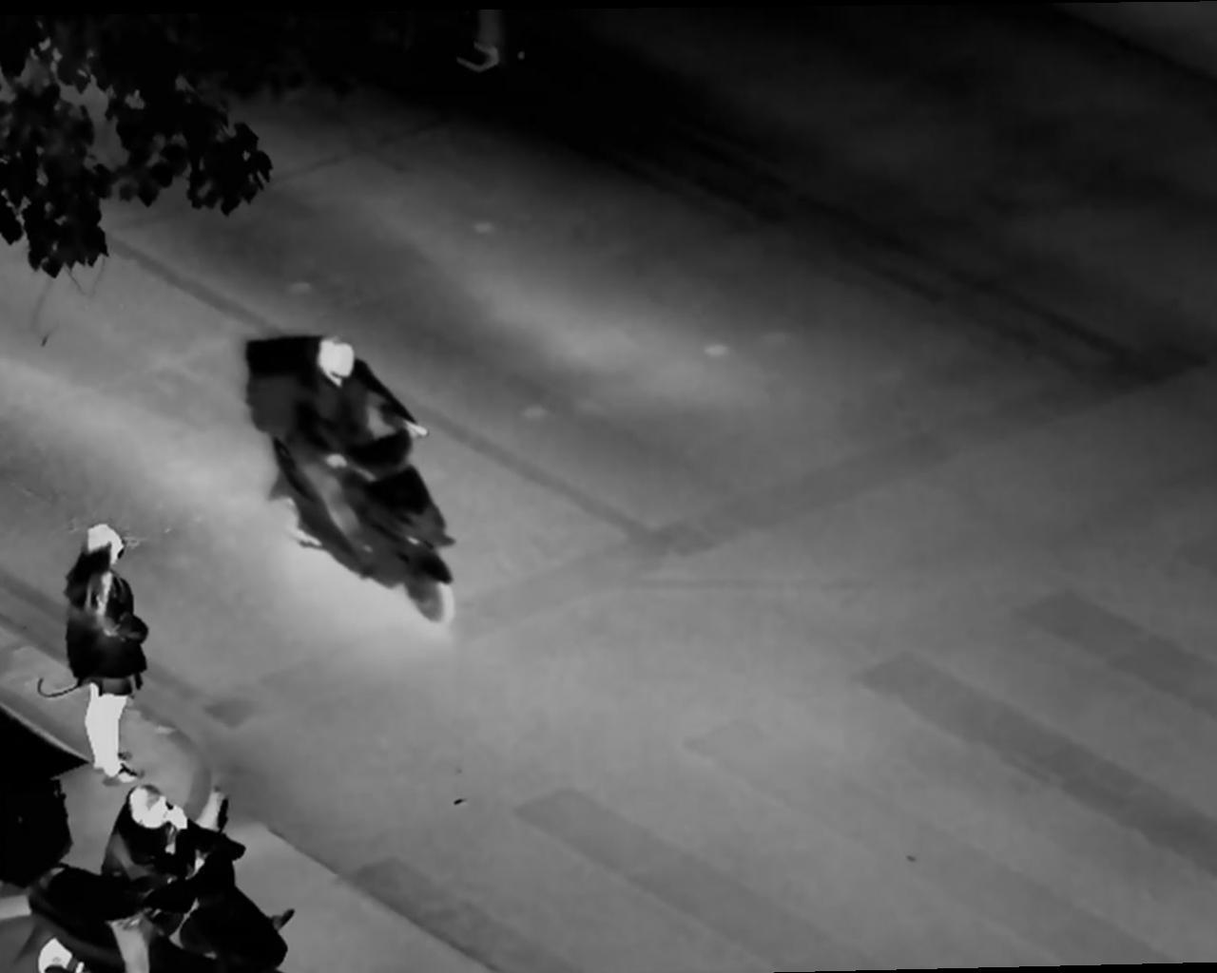person: (289, 333, 407, 556), (64, 520, 159, 794), (104, 783, 198, 973)
